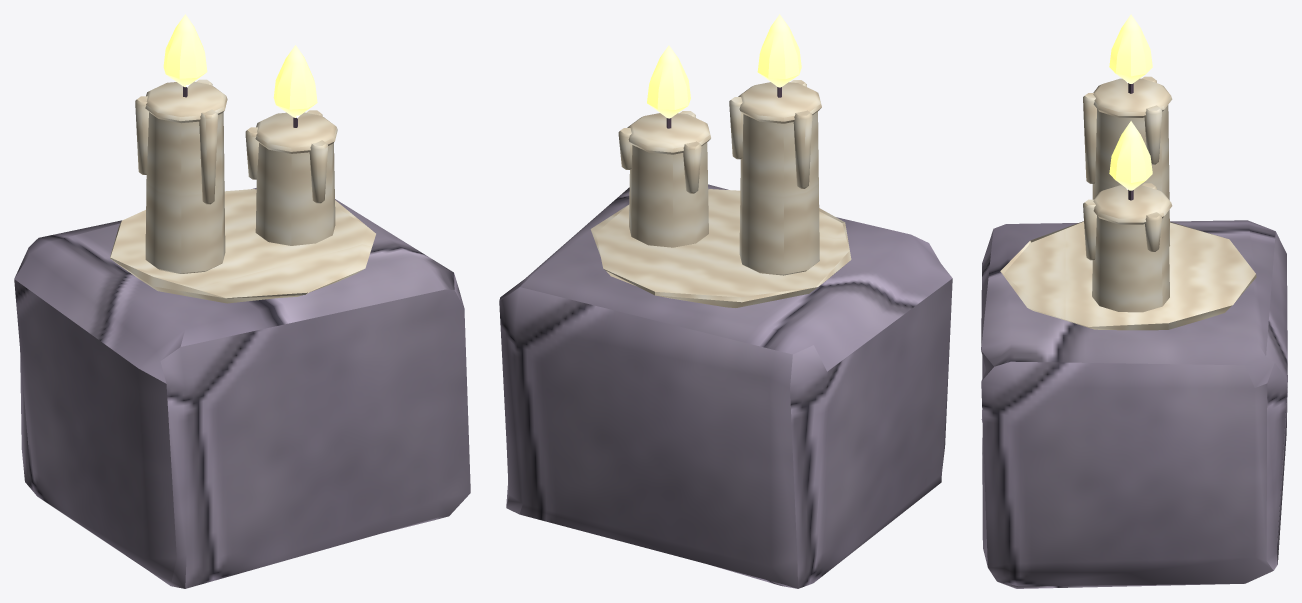
The model's file is grave_candles.gltf.
3 views of the same model, side by side, from view 1: azimuth 30°, elevation 25°; view 2: azimuth 150°, elevation 25°; view 3: azimuth 270°, elevation 25° (orthographic). The views are drawn at different scales.
Visible parts, largest first — view 1: grave_candles_mesh, FLAME_candle_2, FLAME_candle_1; view 2: grave_candles_mesh, FLAME_candle_1, FLAME_candle_2; view 3: grave_candles_mesh, FLAME_candle_2, FLAME_candle_1.
Boxes of the visible parts, x1,y1,x2,y2 form: grave_candles_mesh: [14, 79, 470, 588]; FLAME_candle_2: [273, 45, 317, 118]; FLAME_candle_1: [163, 14, 207, 87]; grave_candles_mesh: [499, 80, 952, 588]; FLAME_candle_1: [757, 14, 801, 87]; FLAME_candle_2: [647, 45, 690, 118]; grave_candles_mesh: [981, 76, 1287, 588]; FLAME_candle_2: [1109, 121, 1152, 190]; FLAME_candle_1: [1109, 14, 1152, 83].
Bounding box in the file's own units: 0.4179 × 0.6176 × 0.3525.
5 materials, 2 textured.
